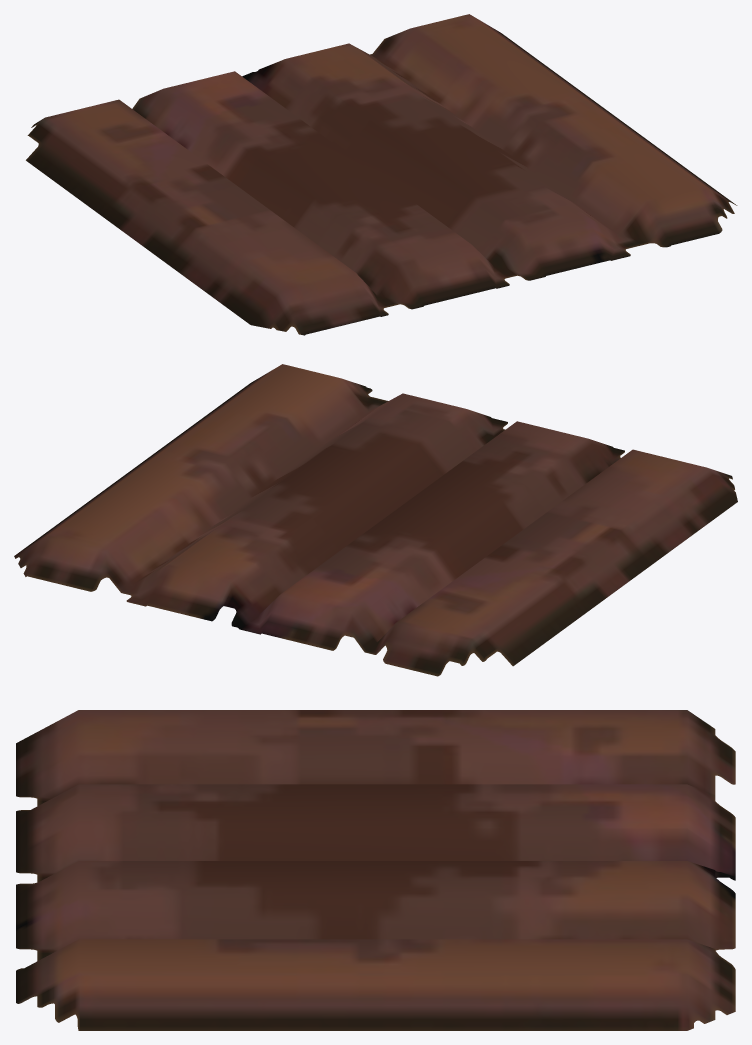
The model's file is plowed_05.fbx.
3 renders of one model, top to bottom at view 1: azimuth 30°, elevation 25°; view 2: azimuth 150°, elevation 25°; view 3: azimuth 270°, elevation 25°, orthographic. The views are drawn at different scales.
Parts seen in each view (by area): view 1: plowed_05; view 2: plowed_05; view 3: plowed_05.
Part boxes in pixels (x1,y1,x2,y2): plowed_05: (26,14,737,335); plowed_05: (14,364,737,676); plowed_05: (16,710,735,1030).
Bounding box in the file's own units: 99.1 × 5.24 × 99.1.
